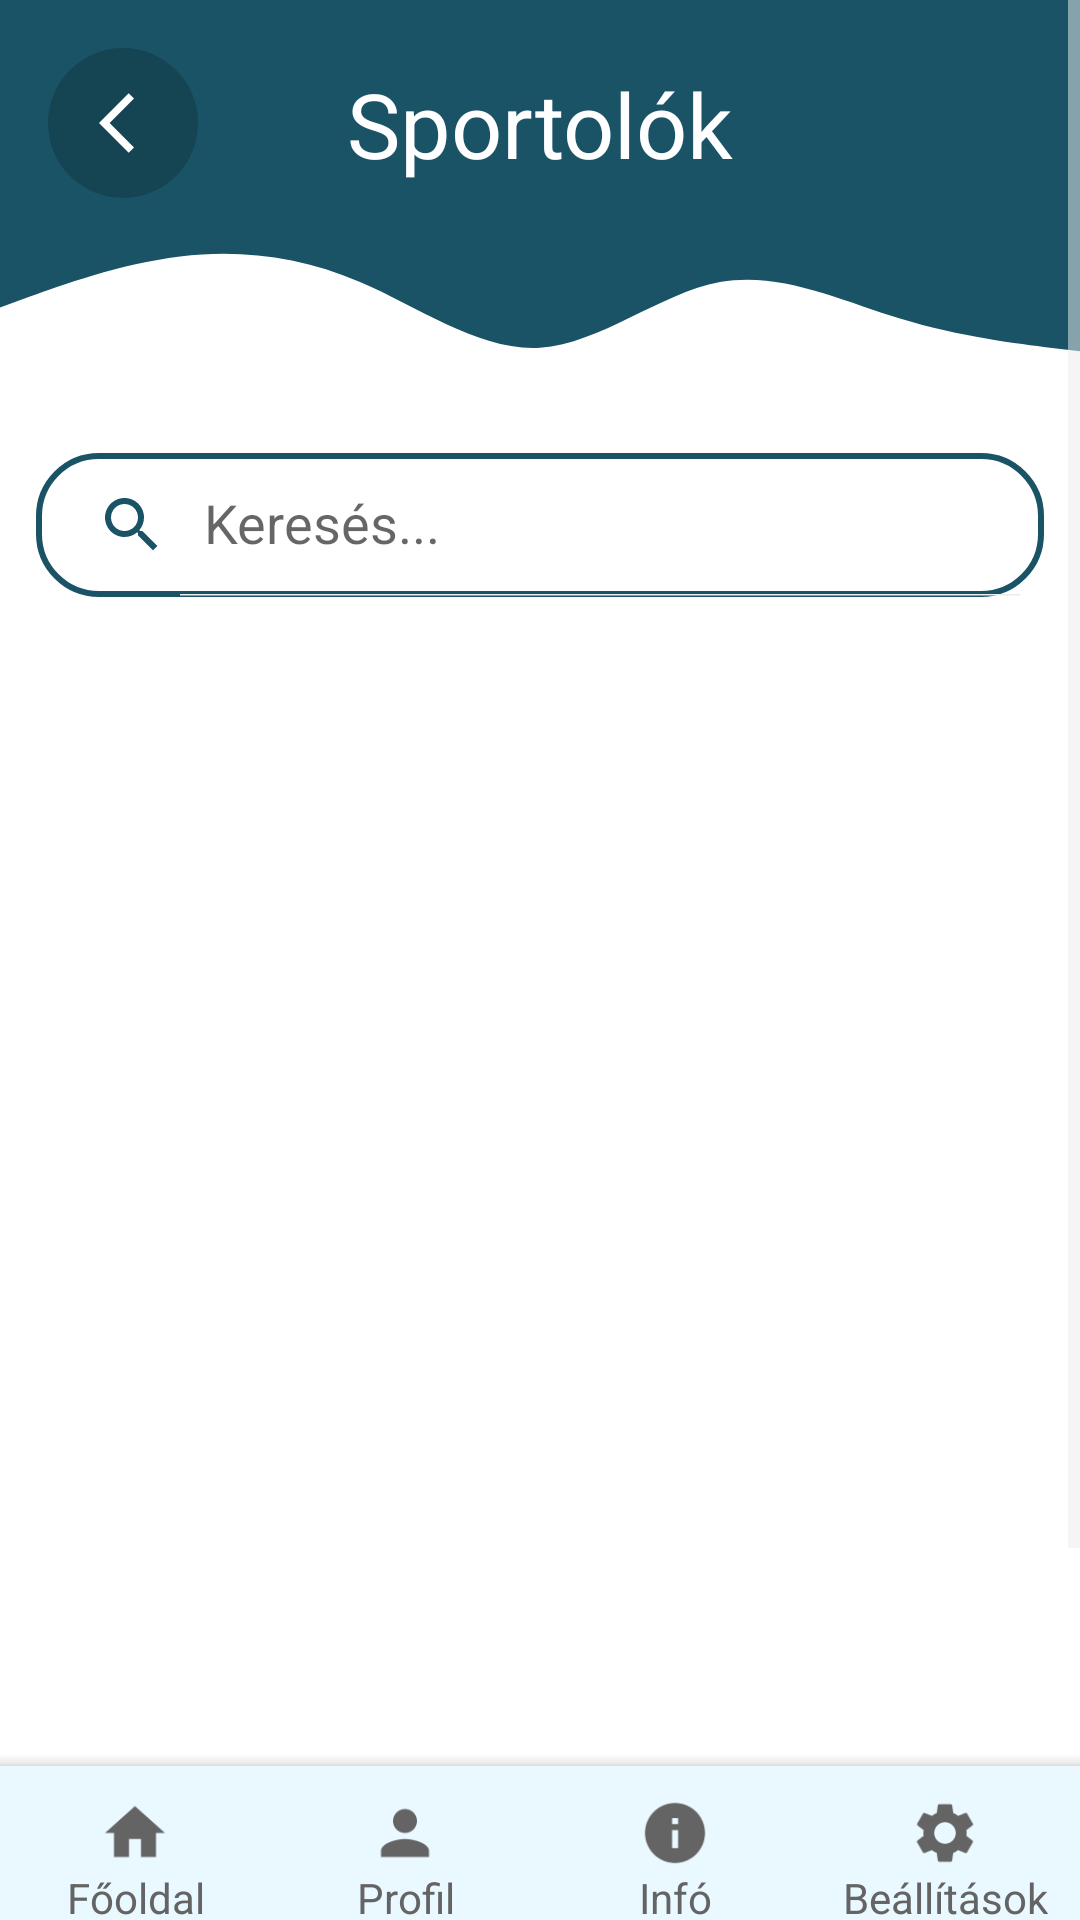

Where to tap for icons on this 1080w x 1920h app screen, as [x,y]:
back: [116,123]
